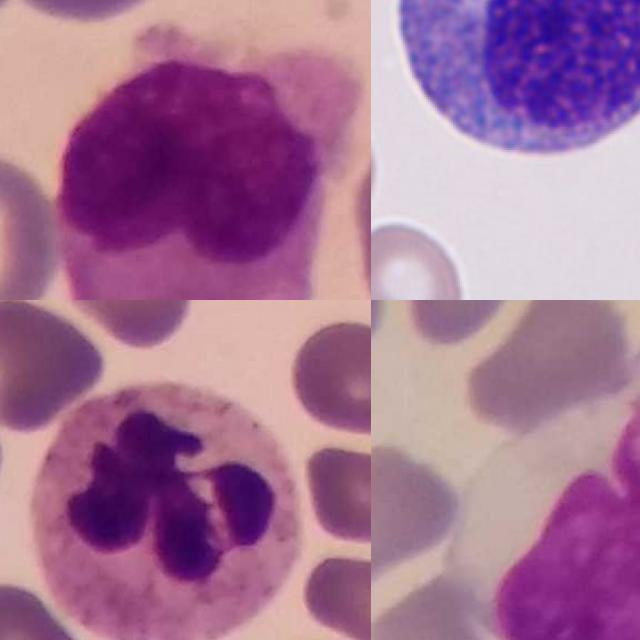Lymphocyte: (376, 0, 640, 175)
Monocyte: (53, 24, 360, 300), (456, 385, 640, 640)
Neutrophil: (30, 379, 303, 640)
RBC: (371, 216, 472, 300)
